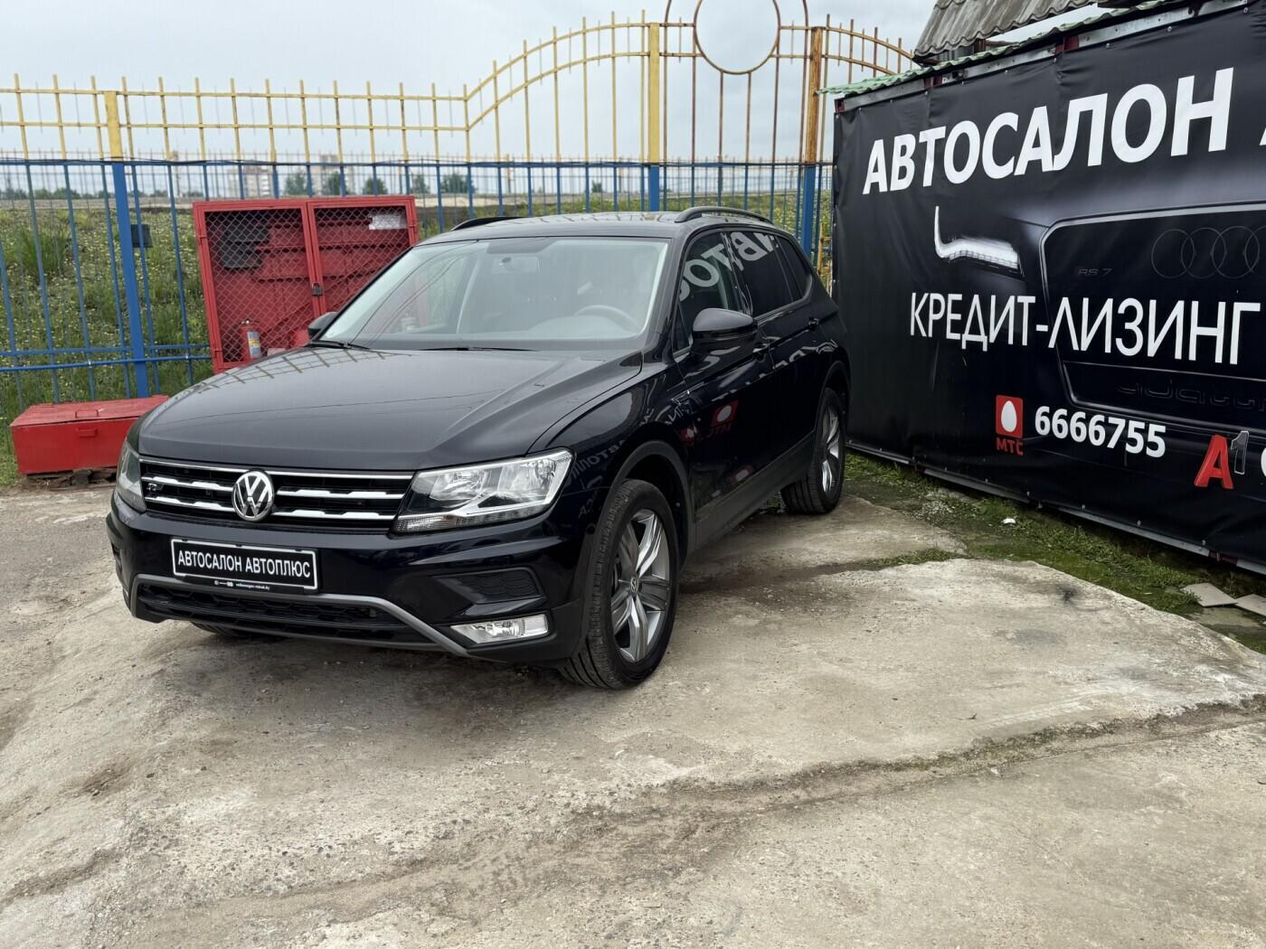Tiguan_2016-2021: (109, 207, 849, 692)
